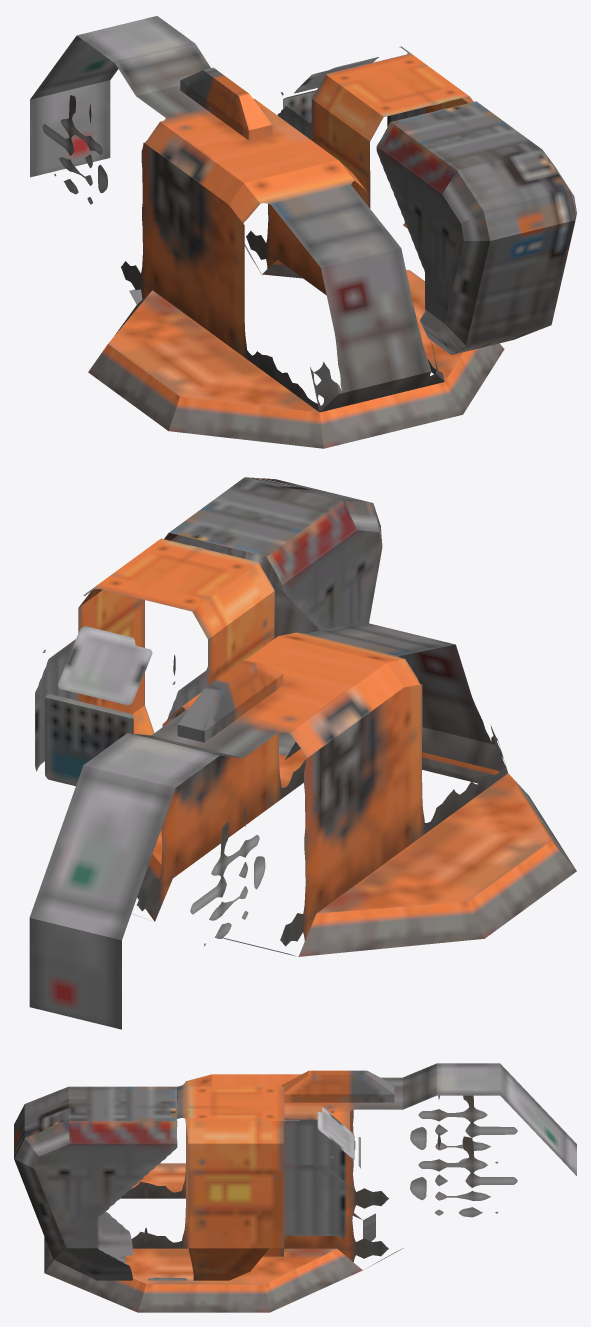
3 renders of one model, top to bottom at view 1: azimuth 30°, elevation 25°; view 2: azimuth 150°, elevation 25°; view 3: azimuth 270°, elevation 25°, orthographic. The views are drawn at different scales.
Parts seen in each view (by area): view 1: PulsarGunUV; view 2: PulsarGunUV; view 3: PulsarGunUV.
Boxes of the visible parts, left/top/right/bottom form: PulsarGunUV: left=30, top=16, right=576, bottom=448; PulsarGunUV: left=29, top=477, right=576, bottom=1029; PulsarGunUV: left=14, top=1063, right=576, bottom=1312.
Bounding box in the file's own units: 7.45 × 4.77 × 12.8.
